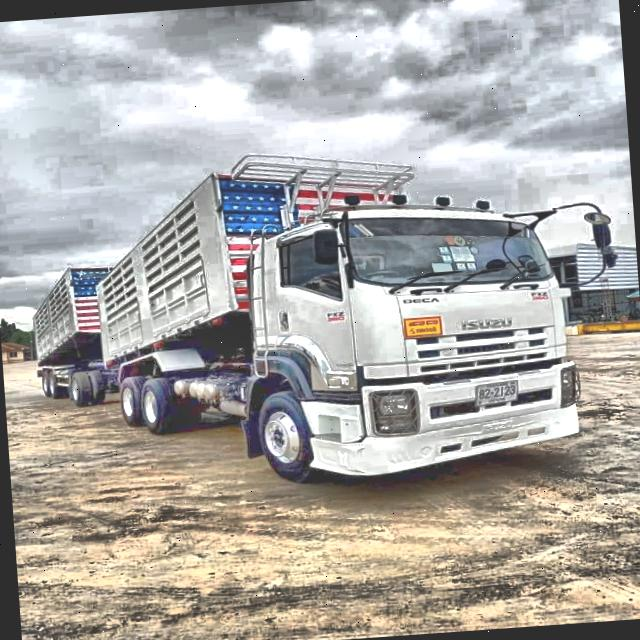trailer: (22, 131, 584, 505)
